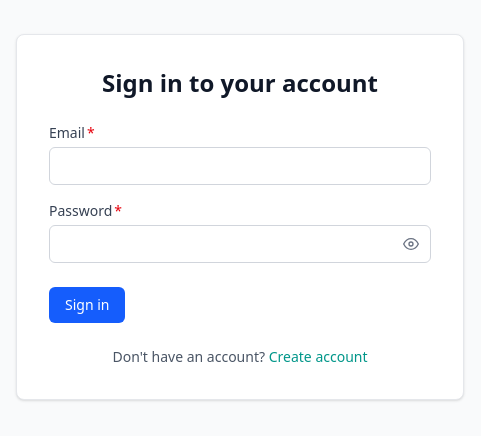
Test case: CandidateLoginPage › displays generic error on 401 (invalid credentials)
The image size is (481, 436).
Type "jane@example.com" into the field labelled "Email*" at (240, 166), box [49, 147, 431, 185]
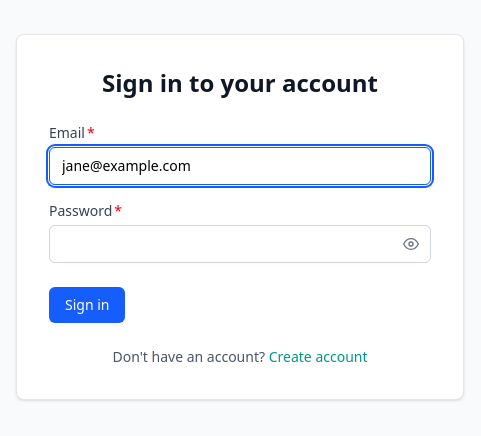
Type "wrong" into the password field labelled "Password*" at (240, 244), box [49, 225, 431, 263]
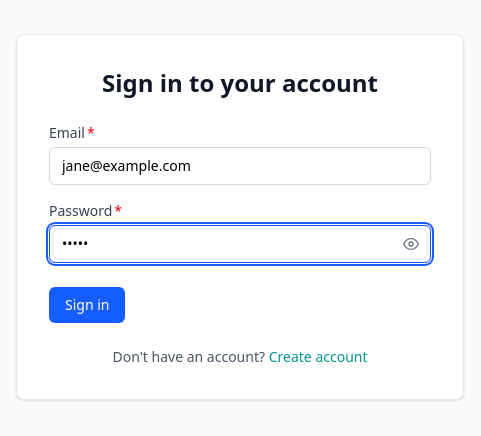
Click the button "Sign in" at (87, 305), box [49, 287, 126, 323]
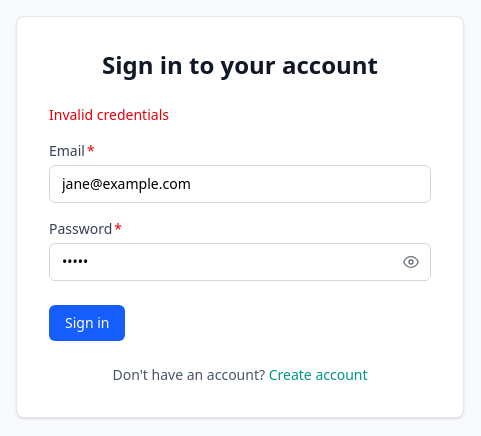
Expected: the text "Invalid credentials" is shown, [49, 105, 169, 124]
